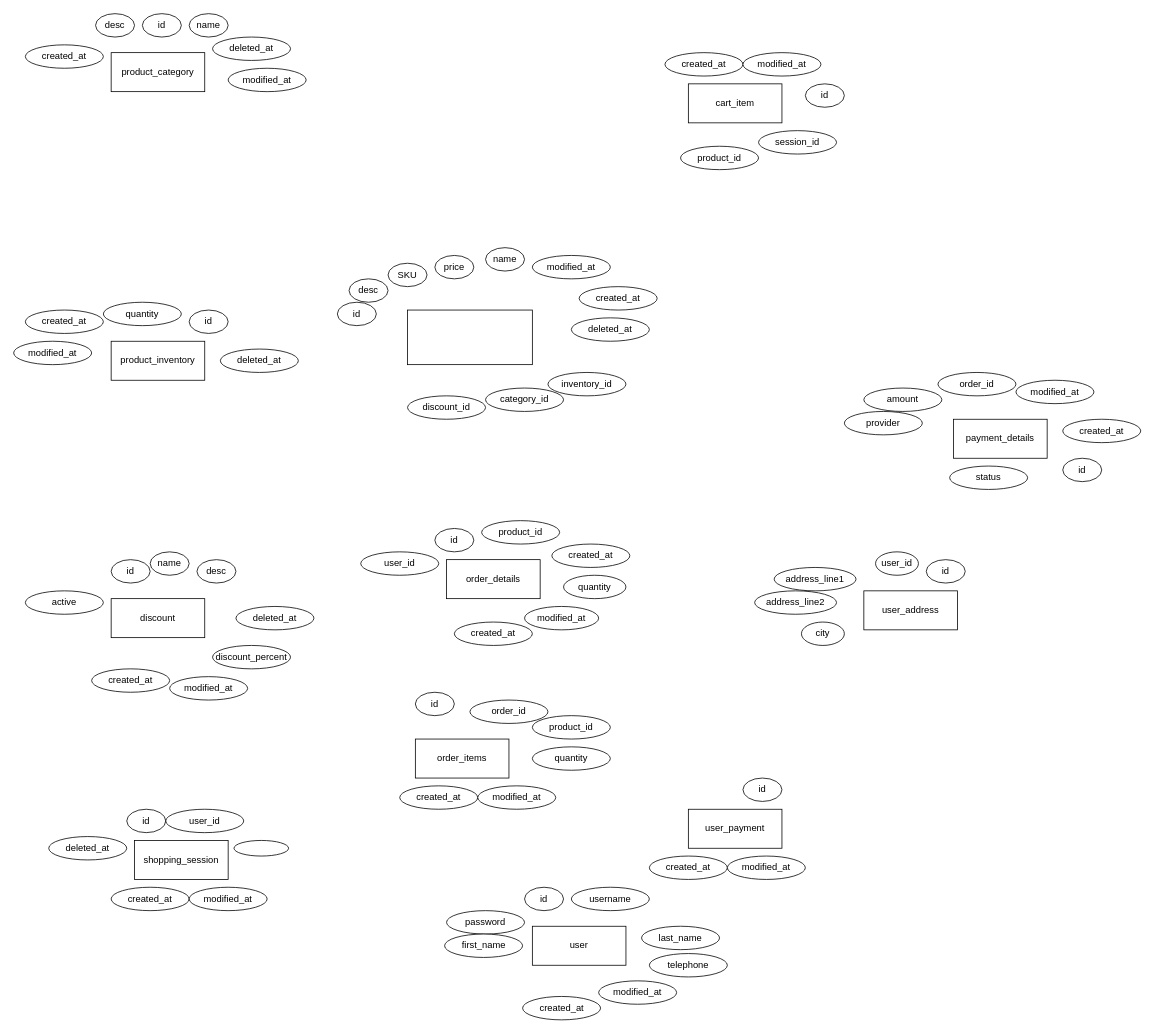
Some shapes in this 1154 by 1034 pixel diagram are drawn without their labels. Here are the shapes that lost their labels. From the top down, the centre of each, then its label:
At [469,337]: "product".
At [261,848]: "total".
